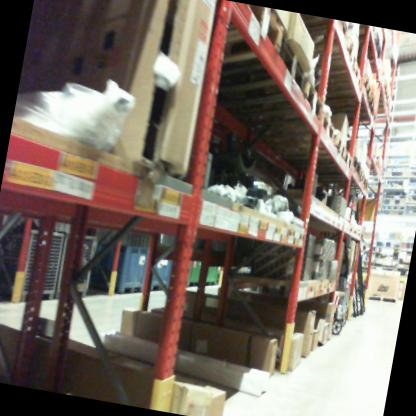pallet: (204, 28, 306, 119), (230, 59, 323, 153), (207, 0, 287, 74), (258, 101, 335, 163), (282, 59, 379, 101), (289, 13, 365, 65), (275, 137, 354, 178), (298, 50, 371, 93), (312, 91, 382, 122), (317, 170, 371, 197), (318, 125, 349, 164), (367, 291, 397, 310), (346, 155, 365, 178)
pallet_truck: (329, 232, 364, 340), (339, 237, 361, 326)
stillage: (0, 213, 70, 311), (52, 221, 103, 316)
